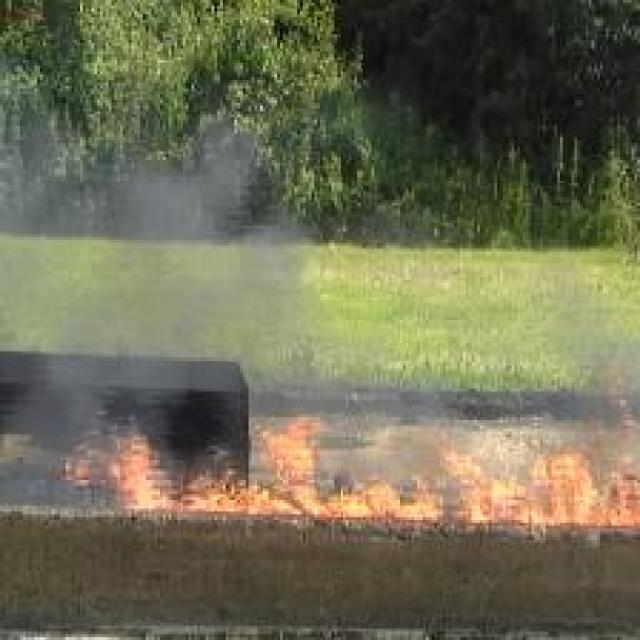Fire: (68, 417, 640, 522)
